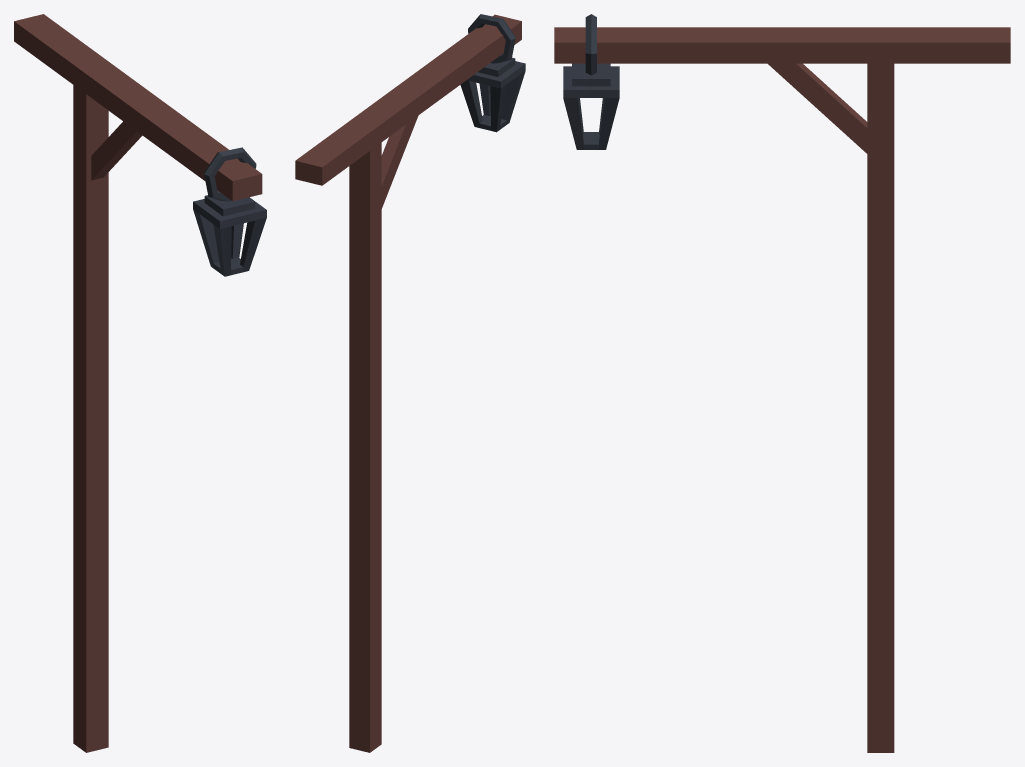
The model's file is fonar.fbx.
The picture shows the model from 3 angles, left to right: view 1: azimuth 30°, elevation 25°; view 2: azimuth 150°, elevation 25°; view 3: azimuth 270°, elevation 25°; orthographic projection. The views are drawn at different scales.
Parts seen in each view (by area): view 1: Cube.091; view 2: Cube.091; view 3: Cube.091.
Boxes of the visible parts, <box> form: Cube.091: <box>14,14,266,752</box>; Cube.091: <box>295,14,525,752</box>; Cube.091: <box>554,14,1010,752</box>.
Bounding box in the file's own units: 40.72 × 520 × 296.
